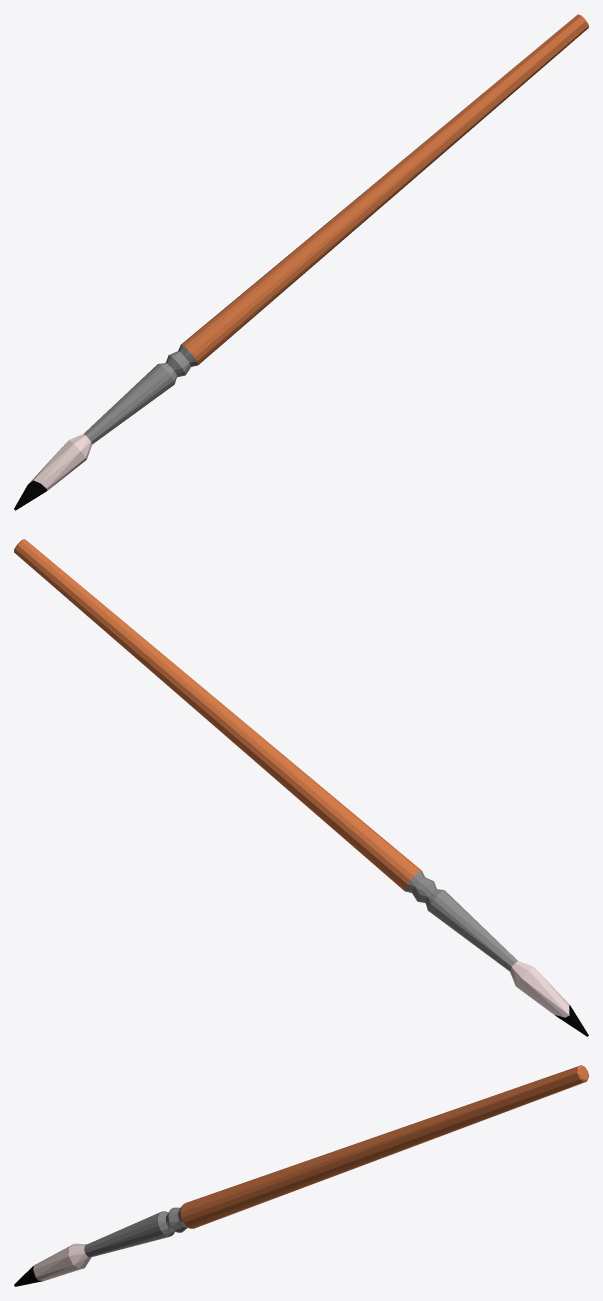
The model's file is pennellen.fbx.
The picture shows the model from 3 angles, top to bottom: view 1: azimuth 30°, elevation 25°; view 2: azimuth 150°, elevation 25°; view 3: azimuth 330°, elevation 25°; orthographic projection.
Parts seen in each view (by area): view 1: Cylinder; view 2: Cylinder; view 3: Cylinder.
Part boxes in pixels (x1,y1,x2,y2): Cylinder: (14, 14, 588, 510); Cylinder: (14, 539, 588, 1036); Cylinder: (14, 1065, 588, 1286).
Bounding box in the file's own units: 985 × 589 × 40.
